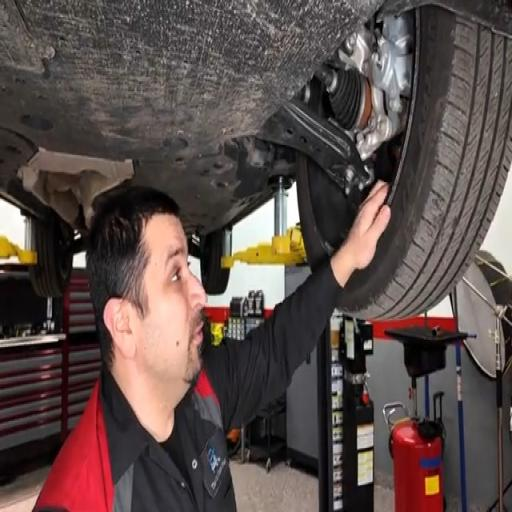tire: (339, 6, 511, 319), (200, 231, 230, 295)
wheel: (29, 215, 73, 297)
